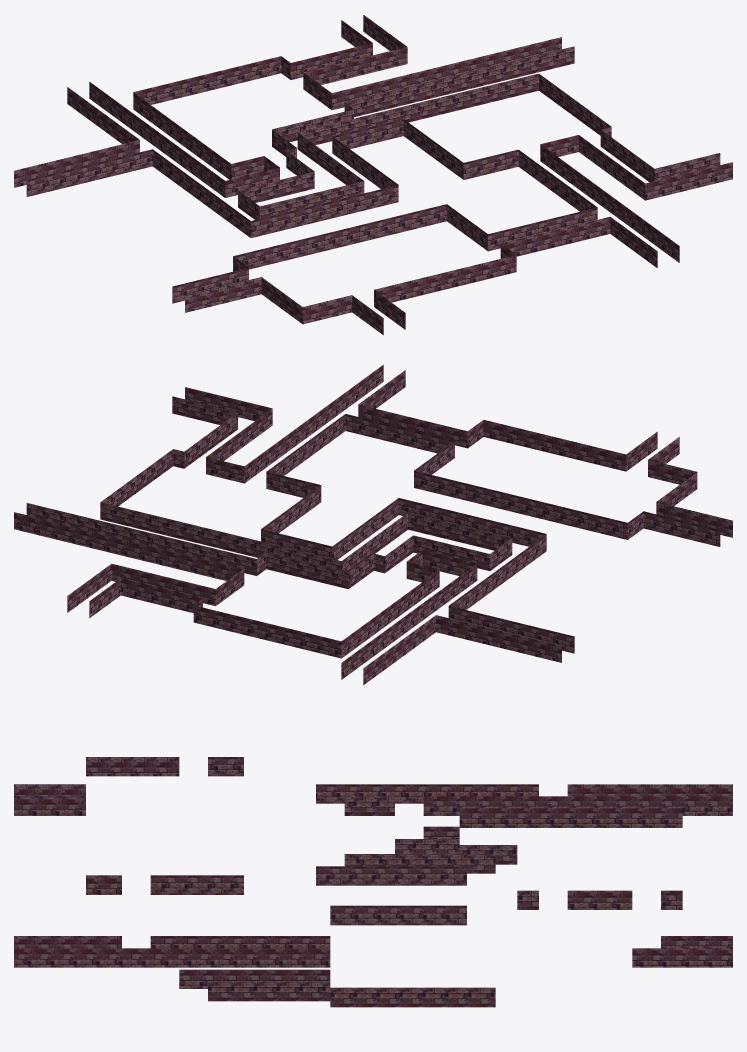
The picture shows the model from 3 angles, top to bottom: view 1: azimuth 30°, elevation 25°; view 2: azimuth 150°, elevation 25°; view 3: azimuth 270°, elevation 25°; orthographic projection. The views are drawn at different scales.
Parts seen in each view (by area): view 1: Plane; view 2: Plane; view 3: Plane.
Part boxes in pixels (x1,y1,x2,y2): Plane: (14, 15, 732, 334); Plane: (14, 365, 732, 684); Plane: (14, 757, 732, 1007).
Bounding box in the file's own units: 100 × 3 × 100.
1 material, 1 textured.
